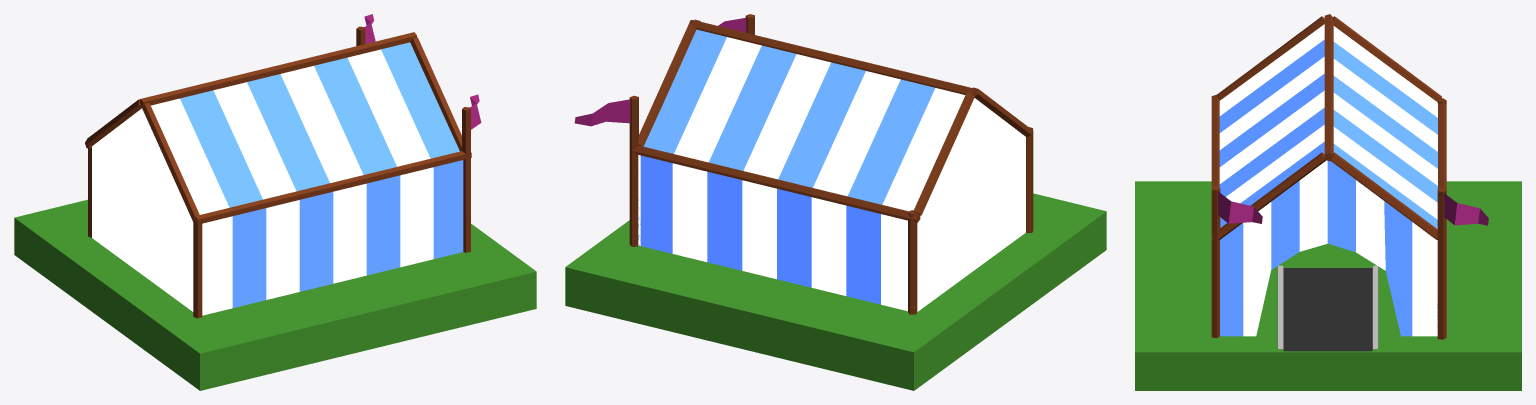
The model's file is tent.fbx.
The picture shows the model from 3 angles, left to right: view 1: azimuth 30°, elevation 25°; view 2: azimuth 150°, elevation 25°; view 3: azimuth 270°, elevation 25°; orthographic projection. The views are drawn at different scales.
Parts seen in each view (by area): view 1: tent; view 2: tent; view 3: tent.
Part boxes in pixels (left/top/right/bottom): tent: left=14, top=14, right=536, bottom=390; tent: left=565, top=14, right=1106, bottom=390; tent: left=1135, top=14, right=1521, bottom=390.
Size of the model in its own units: 214 by 128 by 201.
